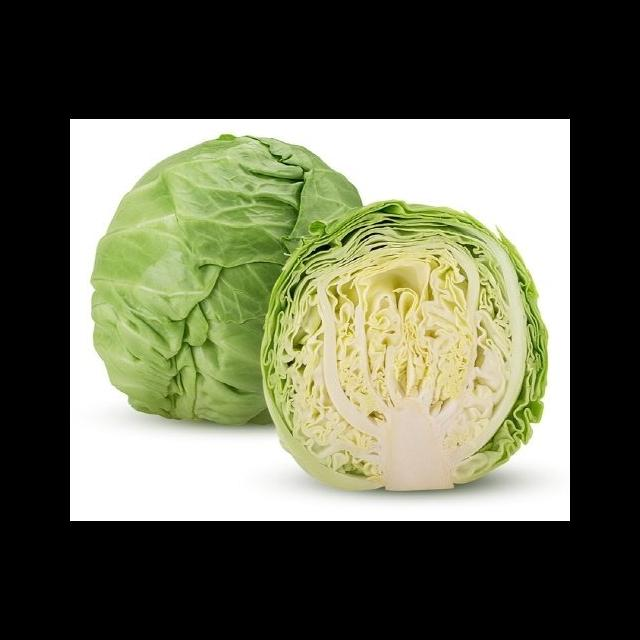cabbage: (258, 200, 549, 493), (89, 134, 364, 427)
